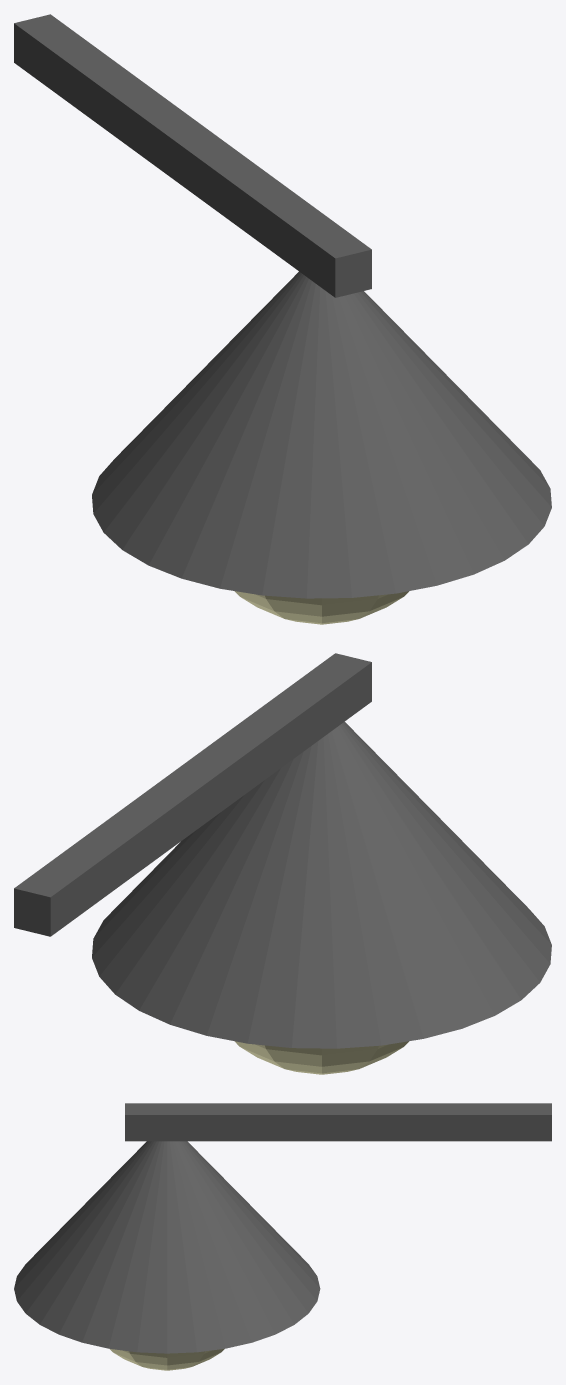
The model's file is cpsMap_MallLamp.obj.
The picture shows the model from 3 angles, top to bottom: view 1: azimuth 30°, elevation 25°; view 2: azimuth 150°, elevation 25°; view 3: azimuth 270°, elevation 25°; orthographic projection. The views are drawn at different scales.
Visible parts, largest first — view 1: Sphere; view 2: Sphere; view 3: Sphere.
Part boxes in pixels (bbox=[...]): Sphere: bbox=[14, 14, 551, 624]; Sphere: bbox=[14, 653, 551, 1074]; Sphere: bbox=[14, 1103, 551, 1370].
Size of the model in its own units: 2 by 1.83 by 3.51.
